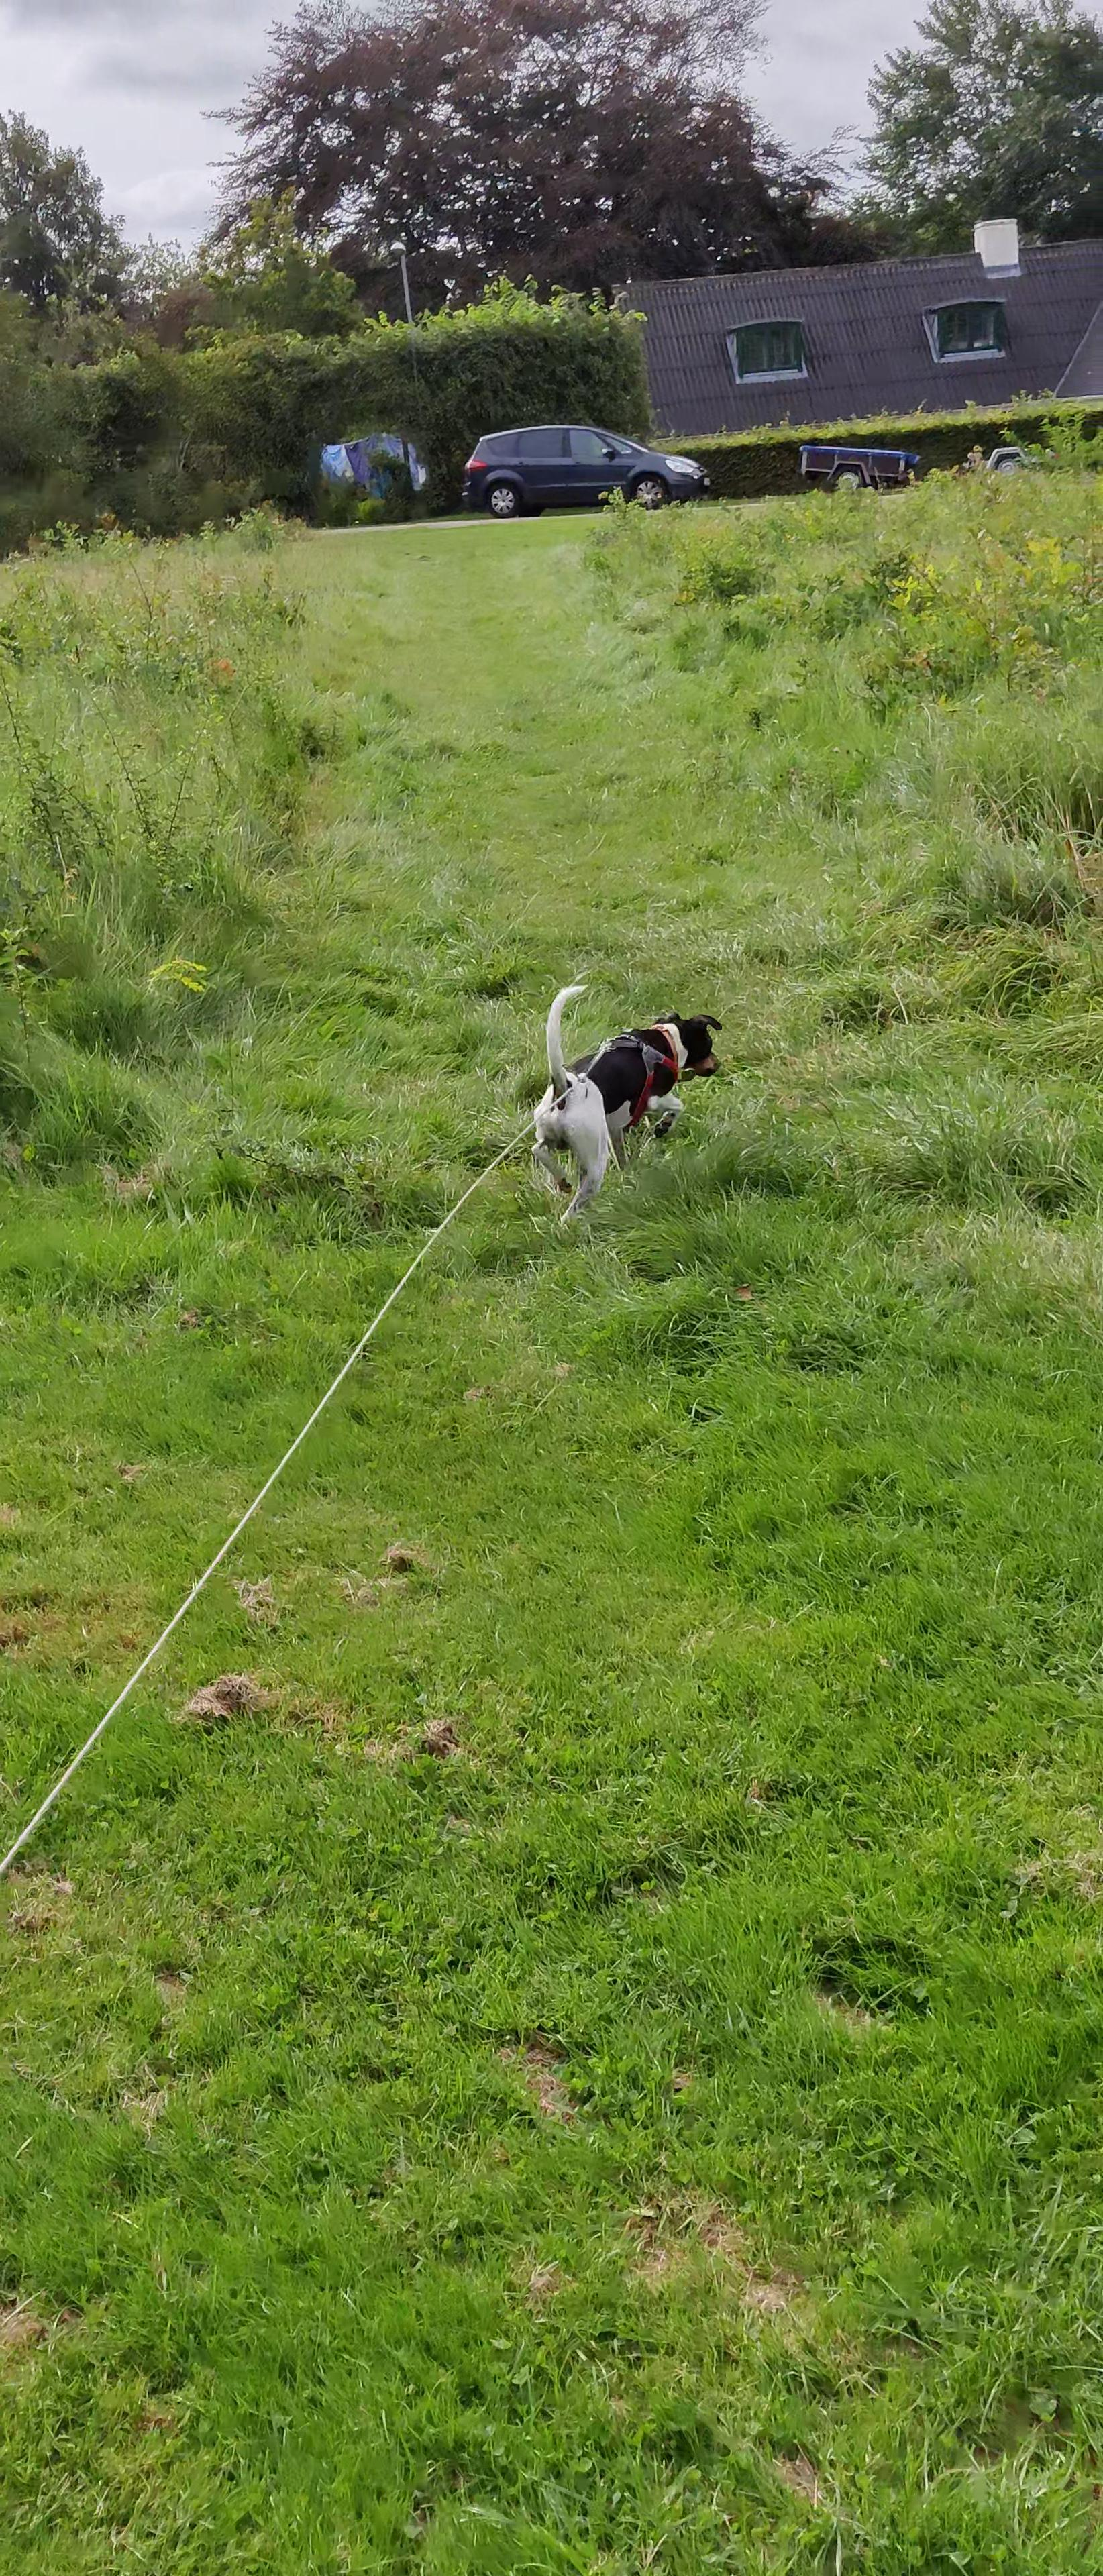Dog: (526, 981, 725, 1234)
